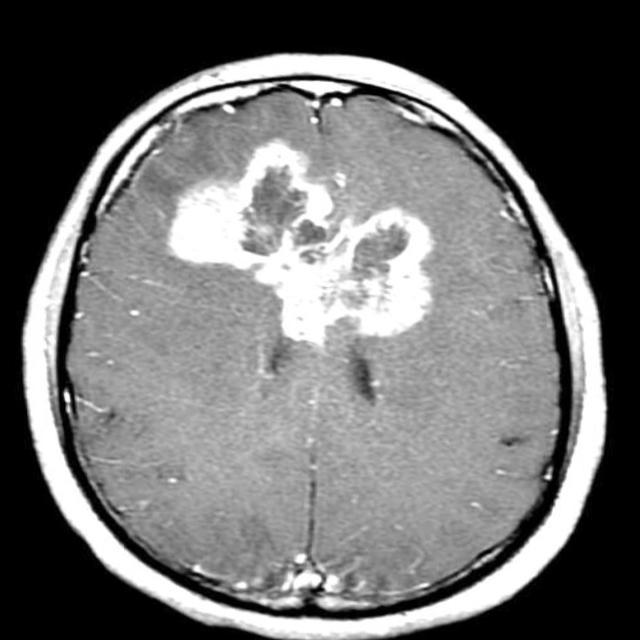Tumor: (169, 138, 434, 342)
